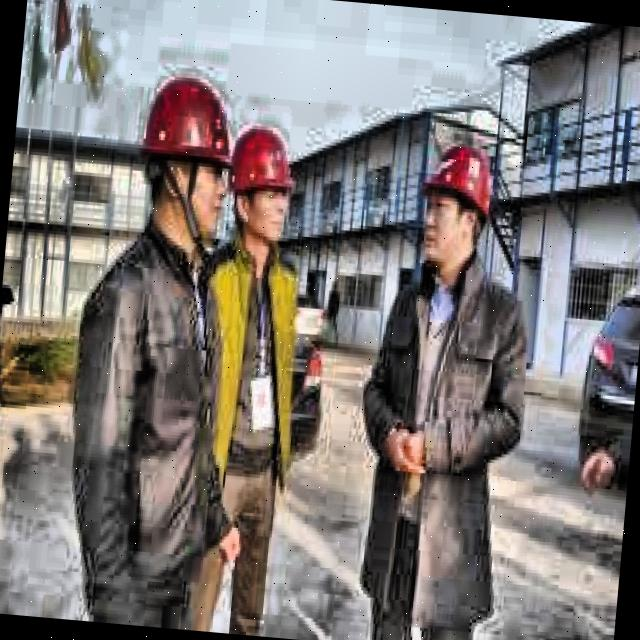helmet: (124, 64, 239, 245), (216, 123, 308, 255), (416, 134, 498, 272)
